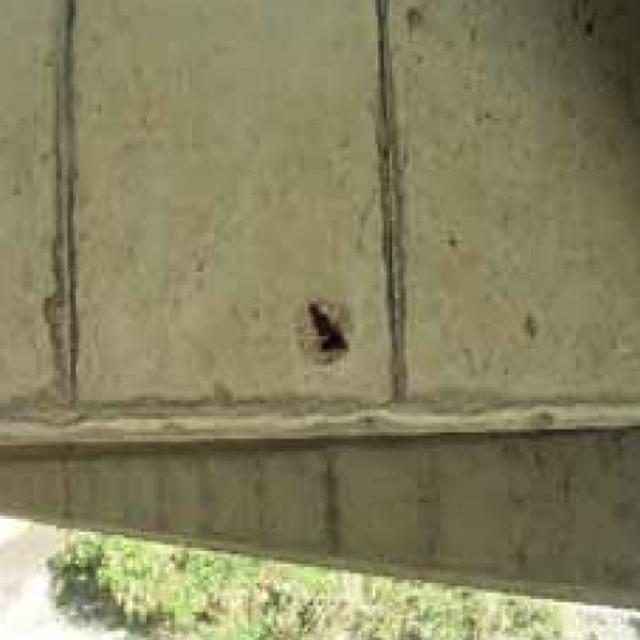spalling: (284, 277, 360, 379)
